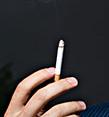smoke: (53, 37, 63, 80)
